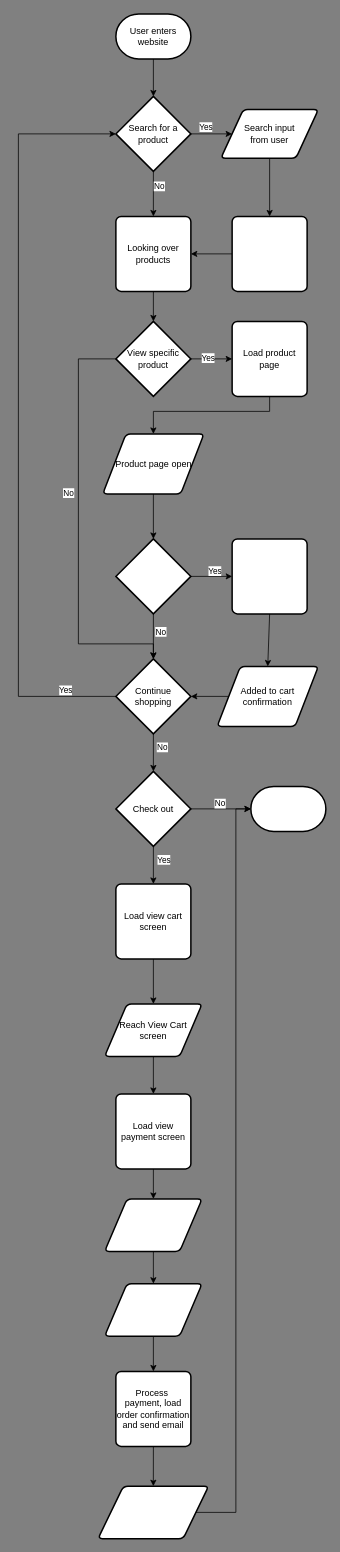
The diagram is 340 pixels wide and 1552 high, and some of its shapes have lost their labels. The shapes that lost their labels are listed below. From the top down, each one's centre as x and y in pixels, then its label:
At (269,253): "Process search info and display results".
At (153,576): "Add this item to cart".
At (269,576): "Process add product to car".
At (288,808): "Leave website".
At (153,1225): "Reach View Payment screen".
At (153,1309): "Input payment information".
At (153,1512): "Order confirmation screen and receive email".
